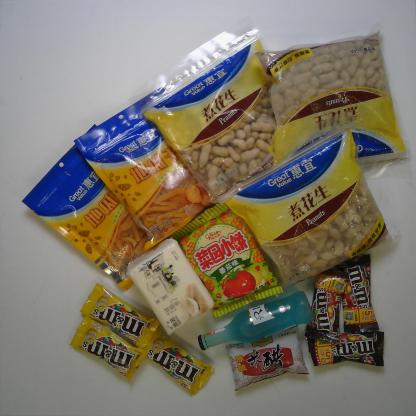Alcohol: (195, 286, 317, 354)
Chocolate: (74, 278, 164, 352), (64, 311, 152, 385), (141, 328, 217, 398), (332, 250, 381, 337), (303, 267, 354, 344), (304, 329, 388, 369)
Dried Food: (201, 107, 404, 292), (119, 12, 283, 209), (248, 19, 413, 185)
Dried Fruit: (17, 118, 166, 295), (70, 80, 221, 254)
Puffed Food: (166, 200, 286, 322)
Seasoner: (222, 322, 312, 394)
Tissue: (121, 232, 218, 340)
